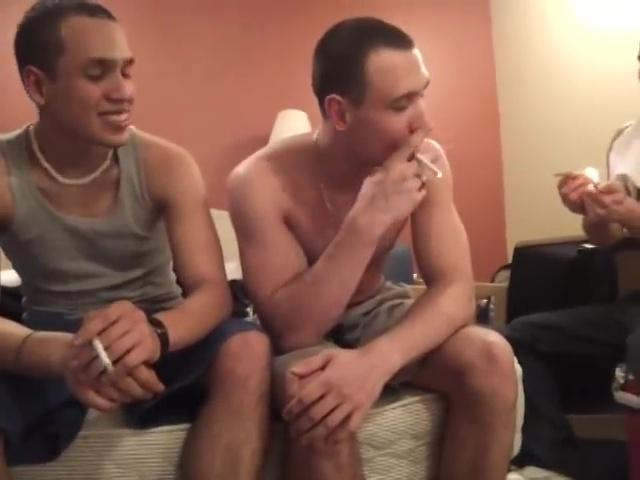cigarette: (89, 335, 117, 378), (413, 151, 445, 181)
